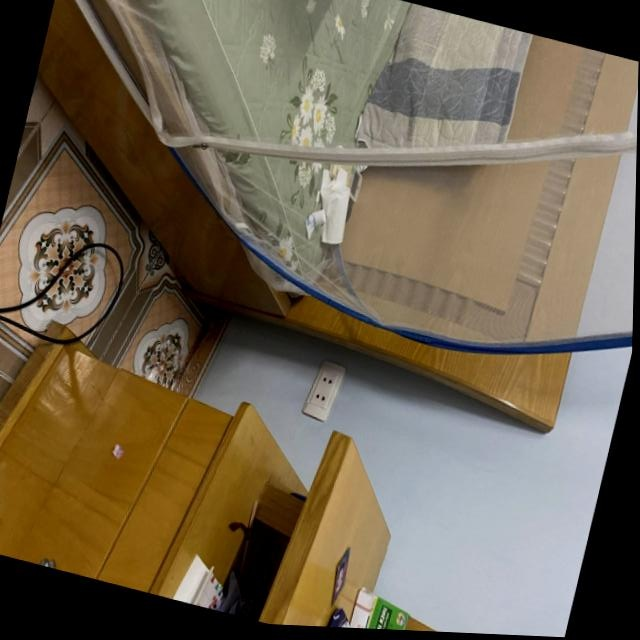outlet: (301, 355, 349, 424)
